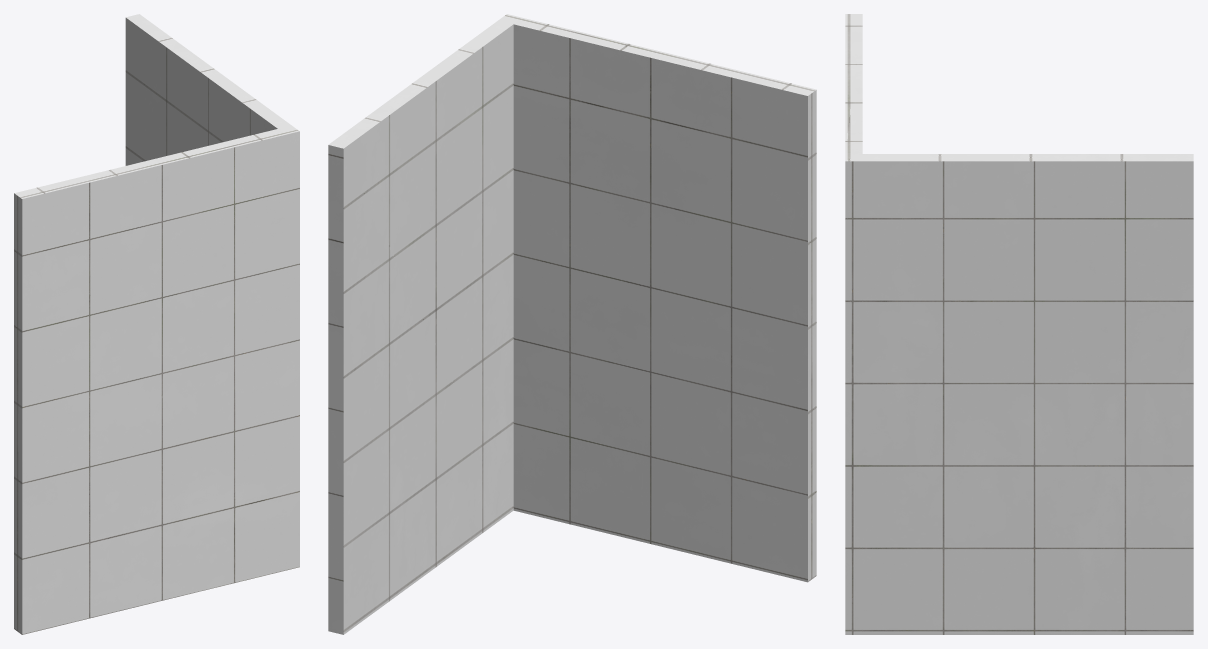
File: CornerWall.fbx
3 renders of one model, left to right at view 1: azimuth 30°, elevation 25°; view 2: azimuth 150°, elevation 25°; view 3: azimuth 270°, elevation 25°, orthographic. The views are drawn at different scales.
Parts seen in each view (by area): view 1: CornerWall; view 2: CornerWall; view 3: CornerWall.
Part boxes in pixels (left/top/right/bottom): CornerWall: left=14, top=14, right=299, bottom=634; CornerWall: left=328, top=14, right=816, bottom=634; CornerWall: left=845, top=14, right=1193, bottom=634.
Size of the model in its own units: 78.74 by 118 by 78.74.
